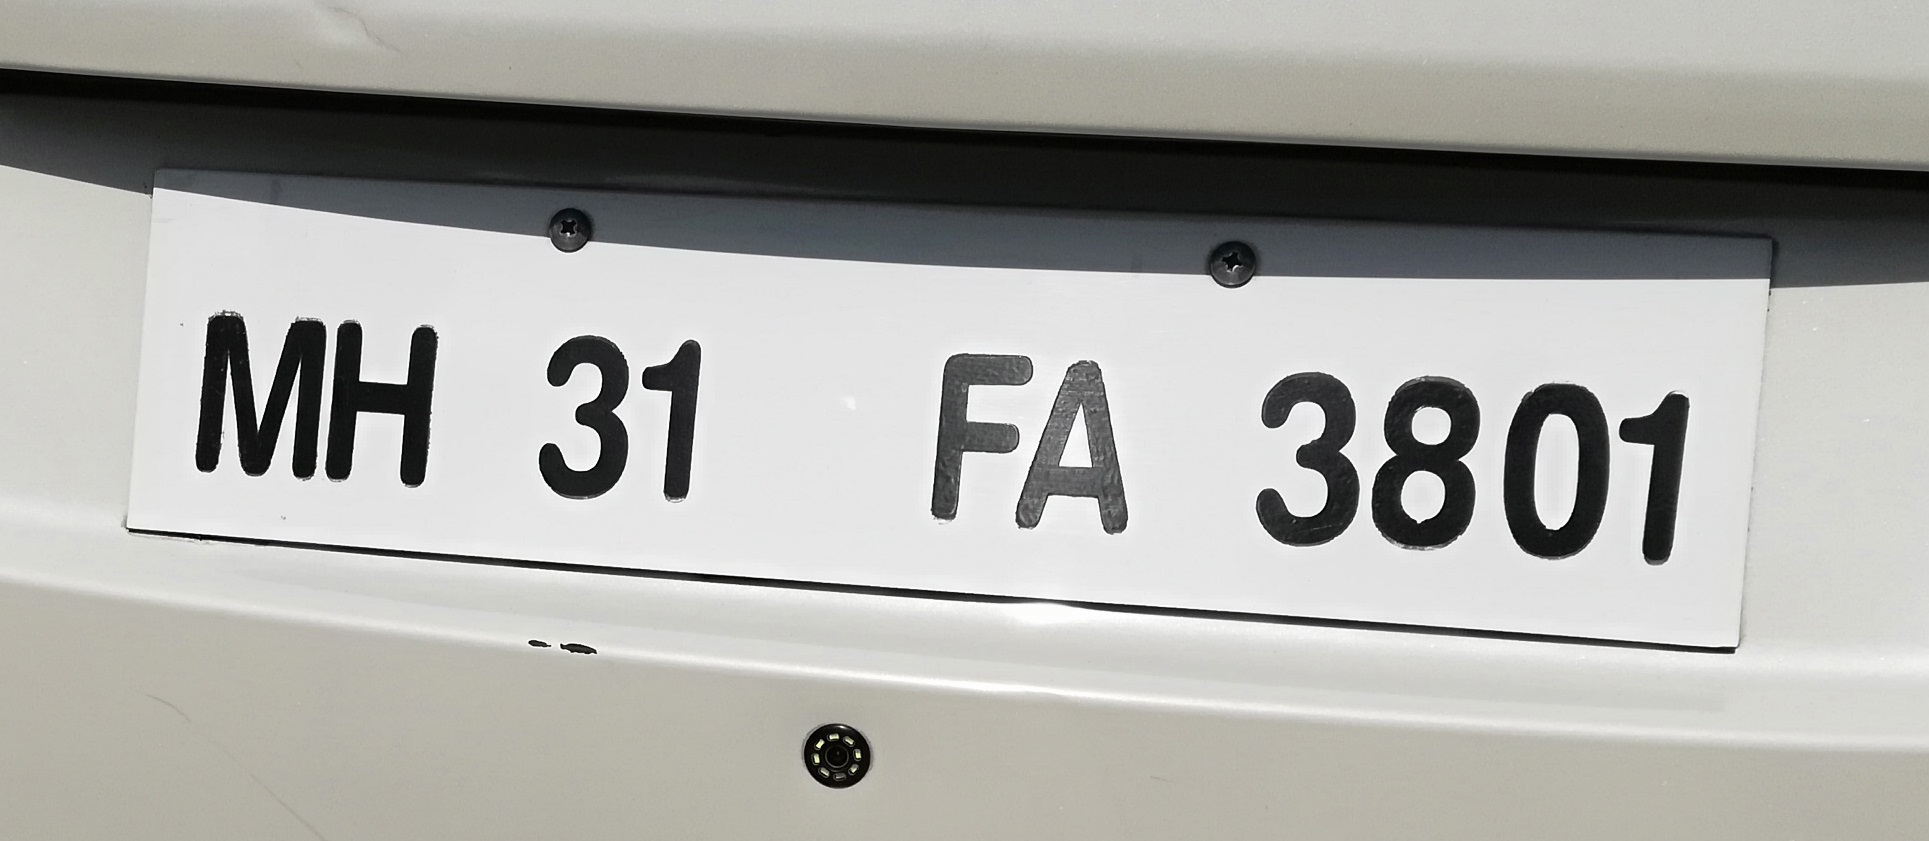numberplate: (110, 157, 1777, 652)
